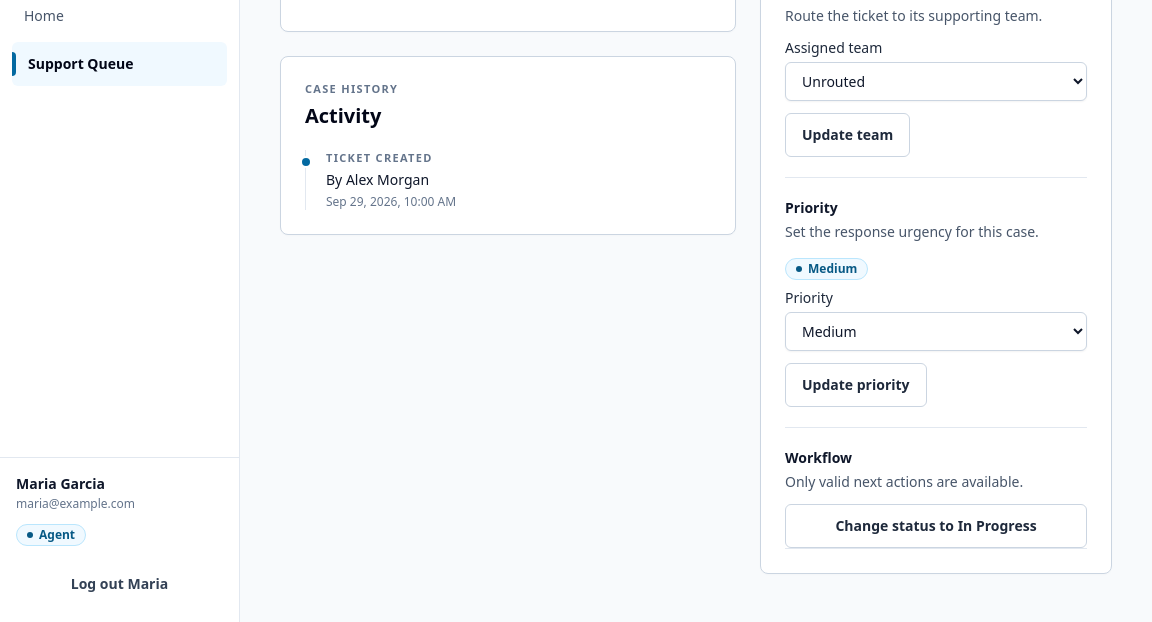
Test: ticket priority controls › reloads after a stale priority response and displays API errors
(page scrolled)
Select "Urgent" in the dropdown labelled "Priority" at coordinates (936, 331), box left=785, top=312, right=1087, bottom=350
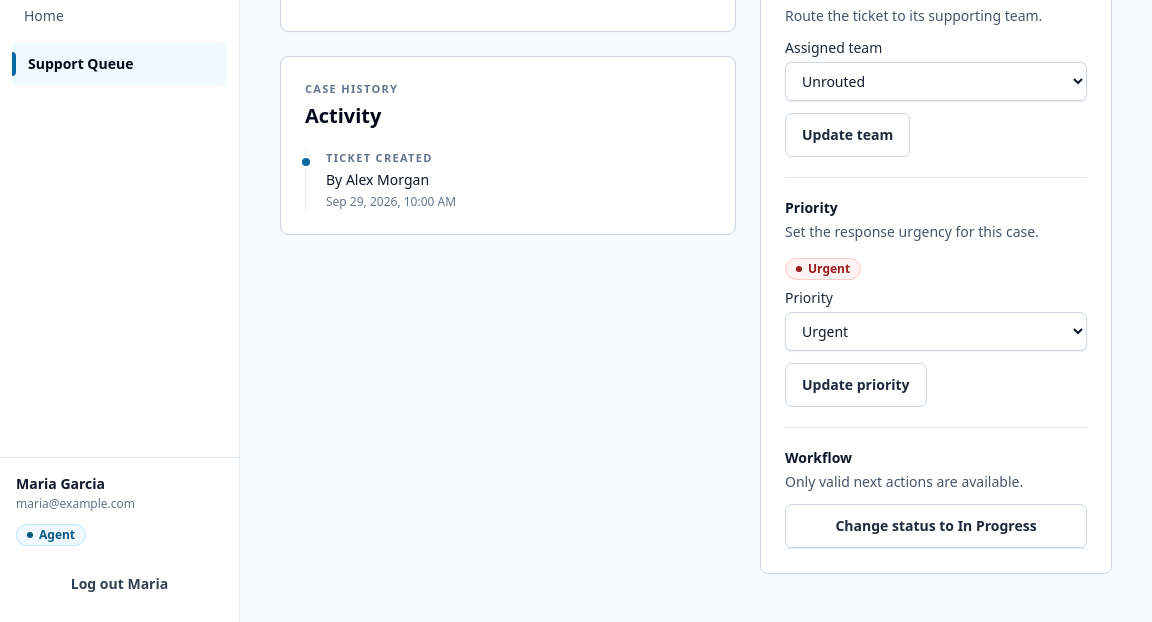
Click the button "Update priority" at coordinates (856, 384), box left=785, top=362, right=927, bottom=406
(page scrolled)
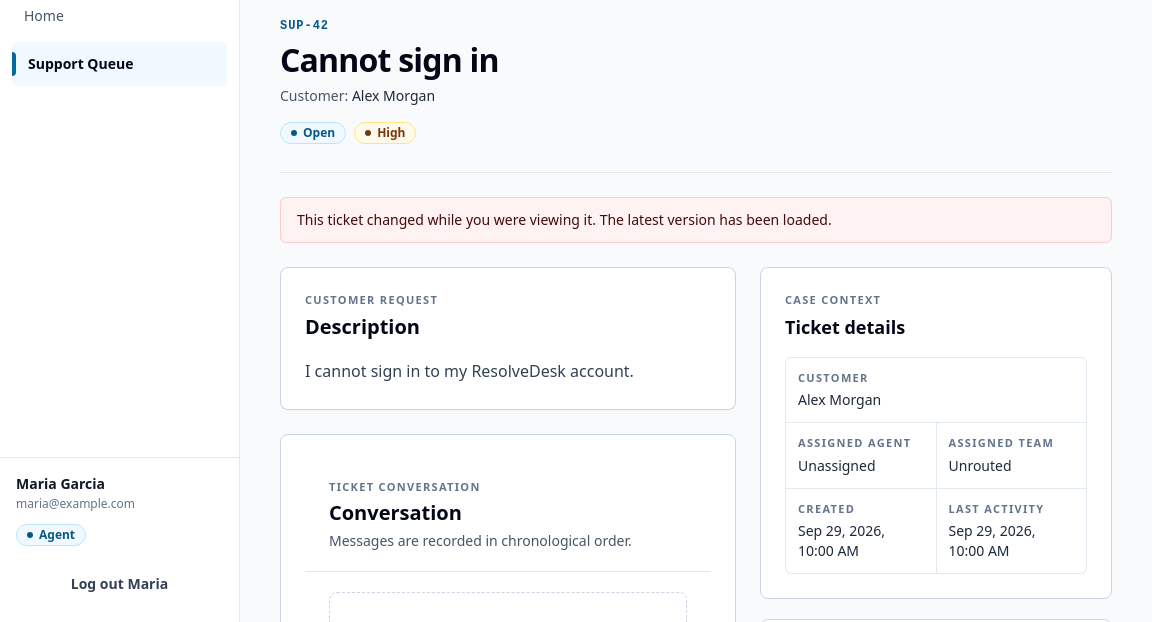
expect the text "This ticket changed while you were viewing it. The latest version has been loaded." is shown: met, box left=297, top=210, right=832, bottom=229
